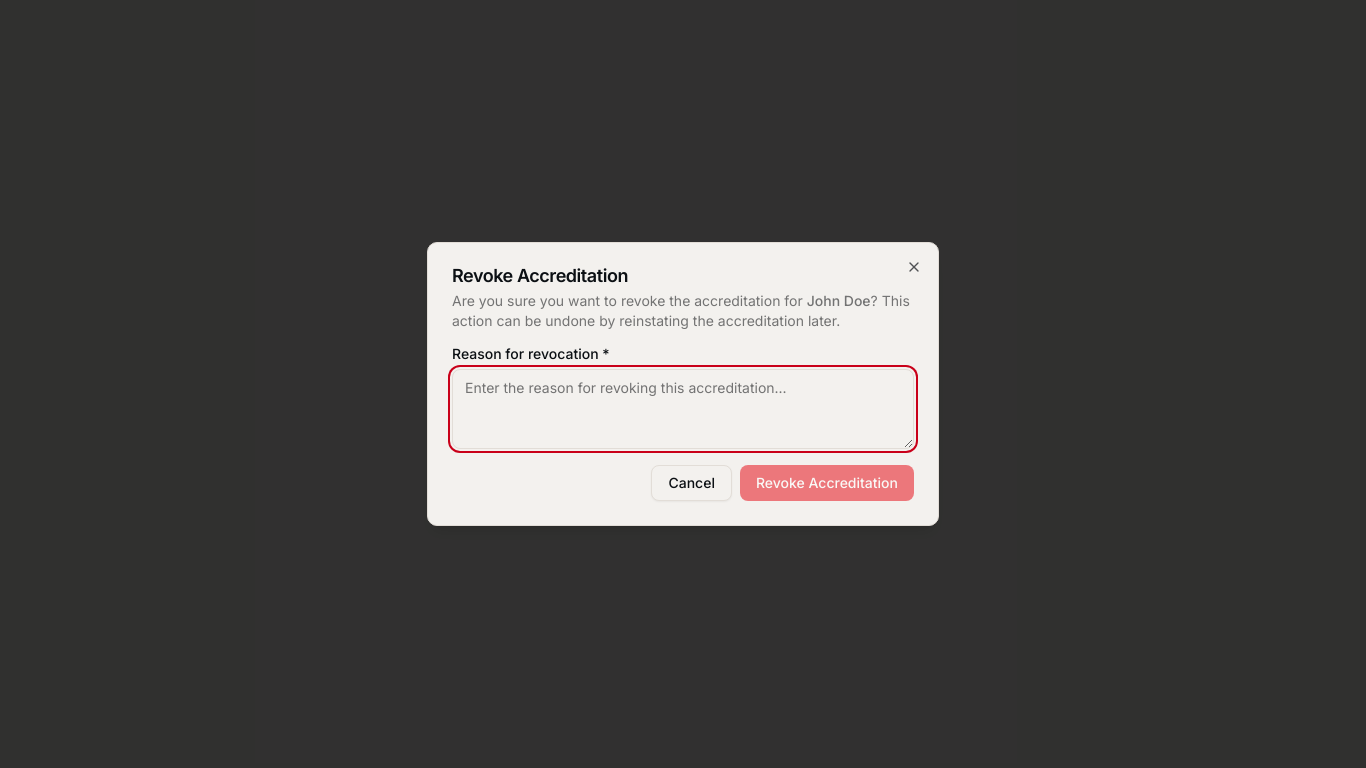
it: RevokeDialog › displays generic error when fetch throws
Type "Some reason" into the text box with placeholder "Enter the reason for revoking this accreditation...".
click(683, 409); type("Some reason")  # box [452, 369, 914, 449]
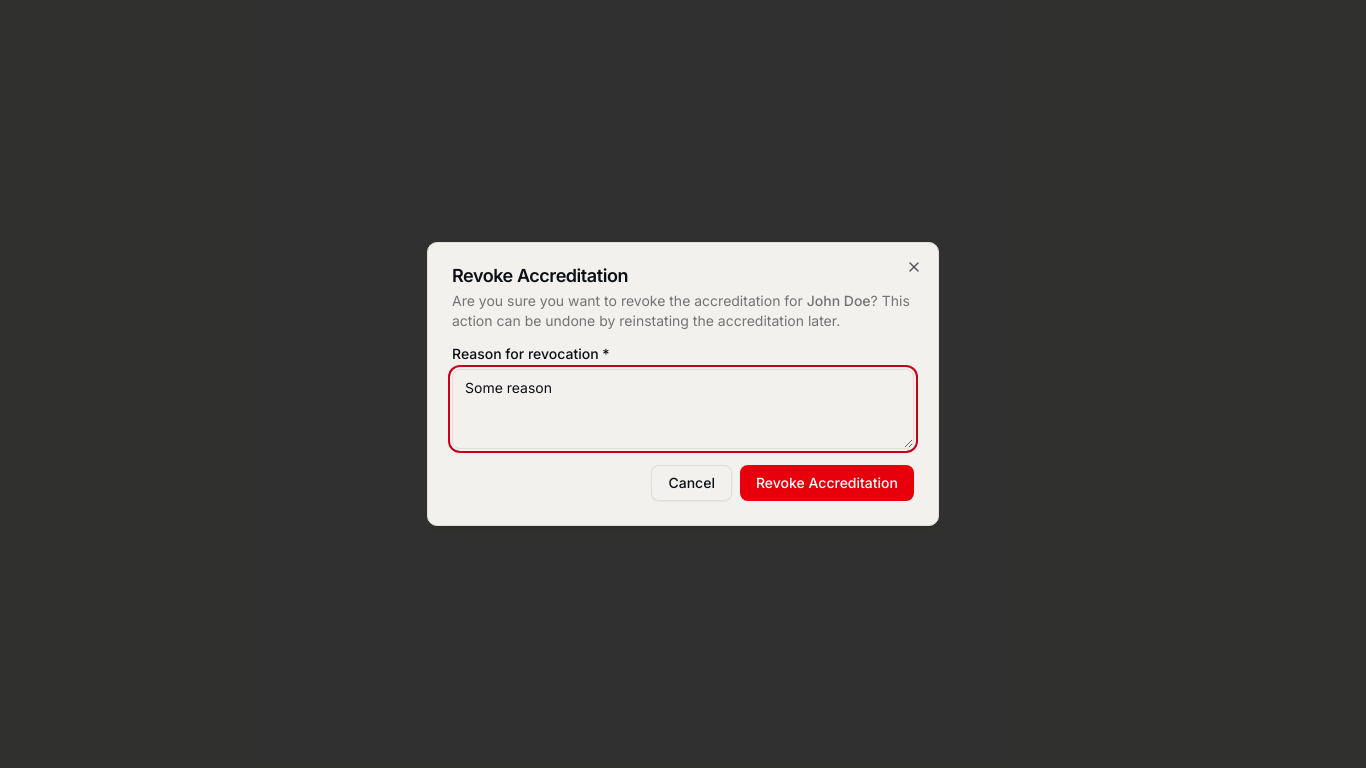
Click the button "Revoke Accreditation".
click(827, 483)  # box [740, 465, 914, 501]
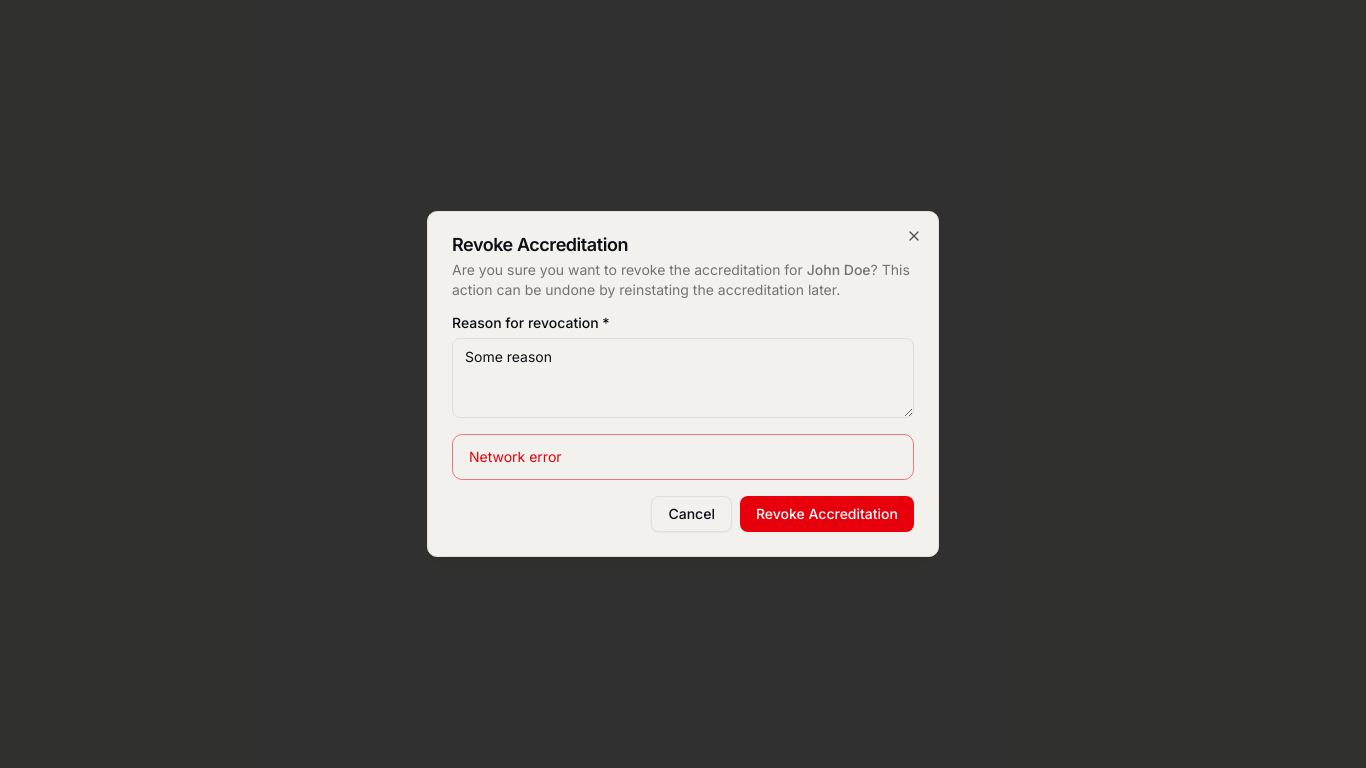
Expected: the text "Network error" is shown, [469, 448, 562, 465]
